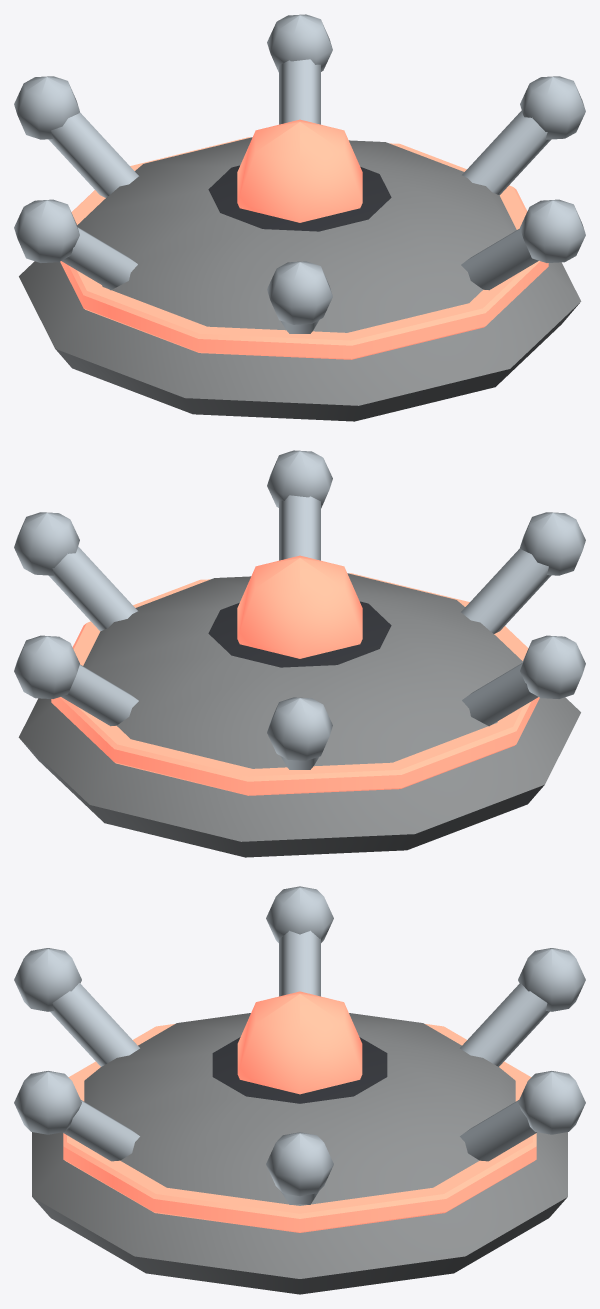
The model's file is R4D_ExplosiveTrap_LOD1.glb.
The picture shows the model from 3 angles, top to bottom: view 1: azimuth 30°, elevation 25°; view 2: azimuth 150°, elevation 25°; view 3: azimuth 270°, elevation 25°; orthographic projection.
Parts seen in each view (by area): view 1: R4D_ExplosiveTrap_LOD1; view 2: R4D_ExplosiveTrap_LOD1; view 3: R4D_ExplosiveTrap_LOD1.
Part boxes in pixels (x1,y1,x2,y2): R4D_ExplosiveTrap_LOD1: (14, 14, 585, 421); R4D_ExplosiveTrap_LOD1: (14, 450, 585, 857); R4D_ExplosiveTrap_LOD1: (14, 886, 585, 1294).
Bounding box in the file's own units: 0.496 × 0.16 × 0.4365.
